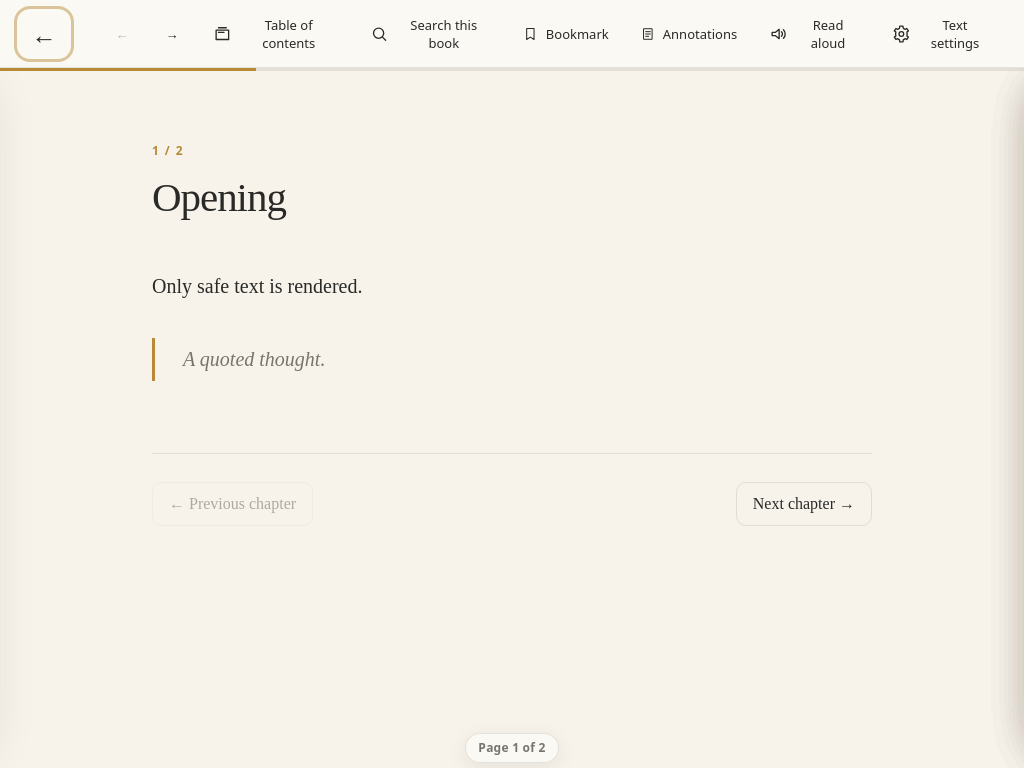
ReaderScreen › renders normalized book text and navigates through the table of contents
The width and height of the screenshot is (1024, 768).
Expected: the text "Only safe text is rendered." is shown, [152,275,362,297]
Expected: the text "Page 1 of 2" is shown, [465,733,559,763]
Click the button "Table of contents" at (275, 34), box [200,12,351,56]
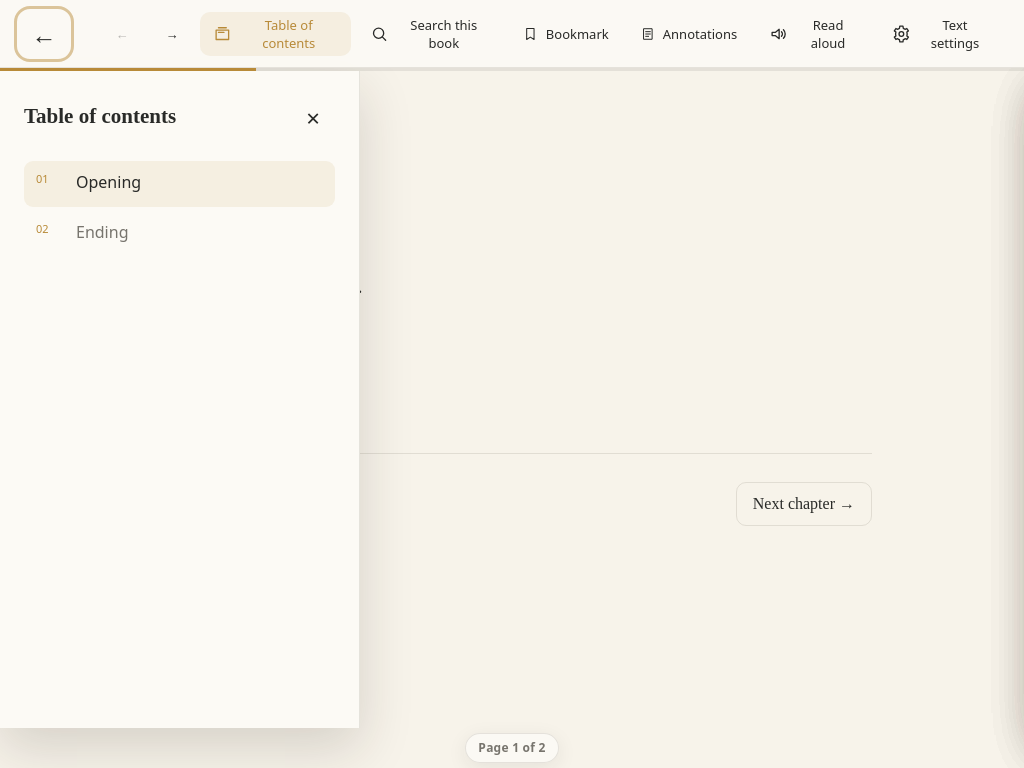
Click the button "02 Ending" at (102, 232), box [24,211,335,257]
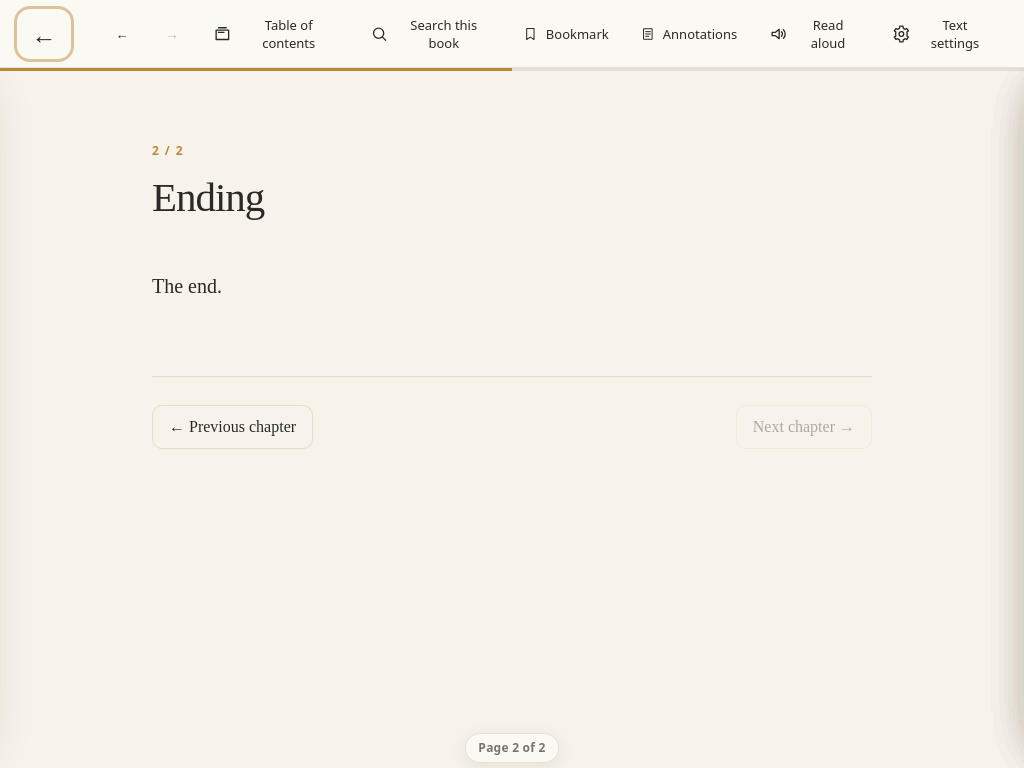
Now the text "The end." is shown, box [152,275,222,297]
